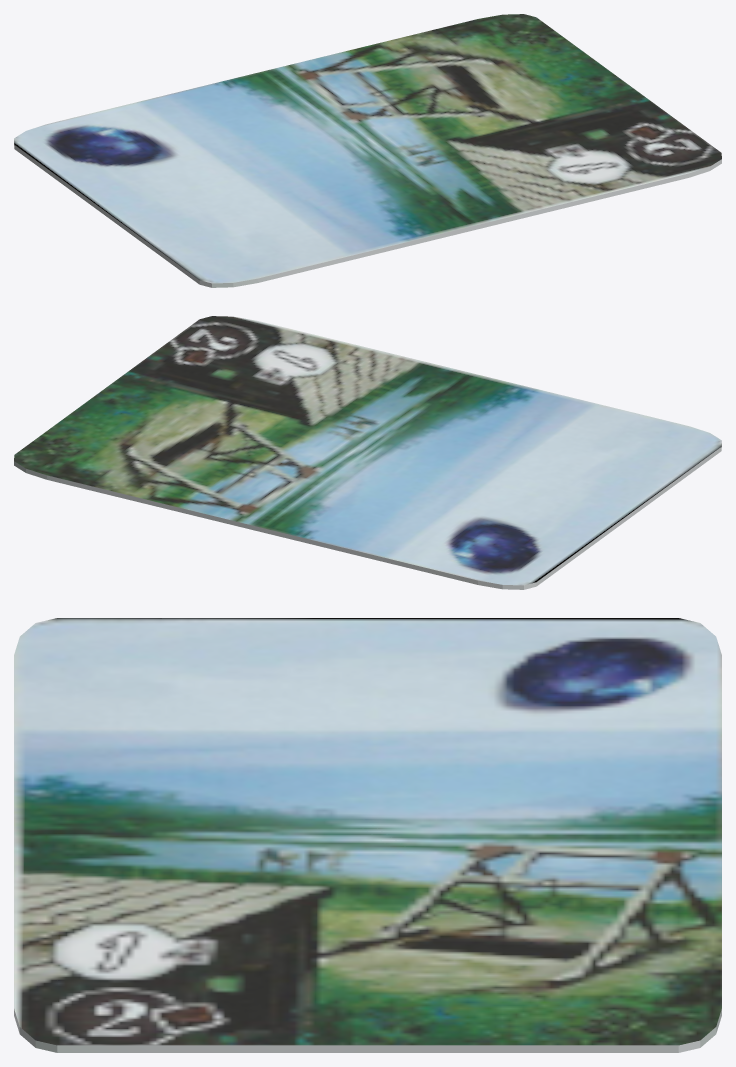
3 renders of one model, top to bottom at view 1: azimuth 30°, elevation 25°; view 2: azimuth 150°, elevation 25°; view 3: azimuth 270°, elevation 25°, orthographic. The views are drawn at different scales.
Parts seen in each view (by area): view 1: Card1; view 2: Card1; view 3: Card1.
Part boxes in pixels (box(x1,y1,x2,y2)): Card1: box(14, 14, 721, 287); Card1: box(14, 316, 721, 589); Card1: box(14, 618, 721, 1052).
Size of the model in its own units: 700 by 5.74 by 490.
